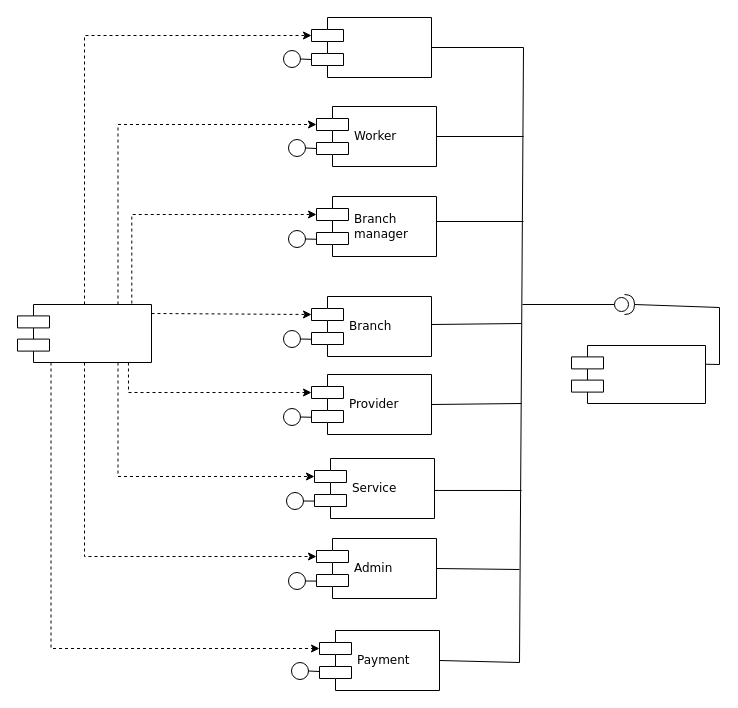
The diagram is 738 pixels wide and 708 high, and some of its shapes have lost their labels. Here are the shapes that lost their labels. From the top down, the centre of each, then its label:
At point (371, 47): "Client".
At point (84, 333): "MULTISERVICE PROVIDER".
At point (638, 374): "Database".
